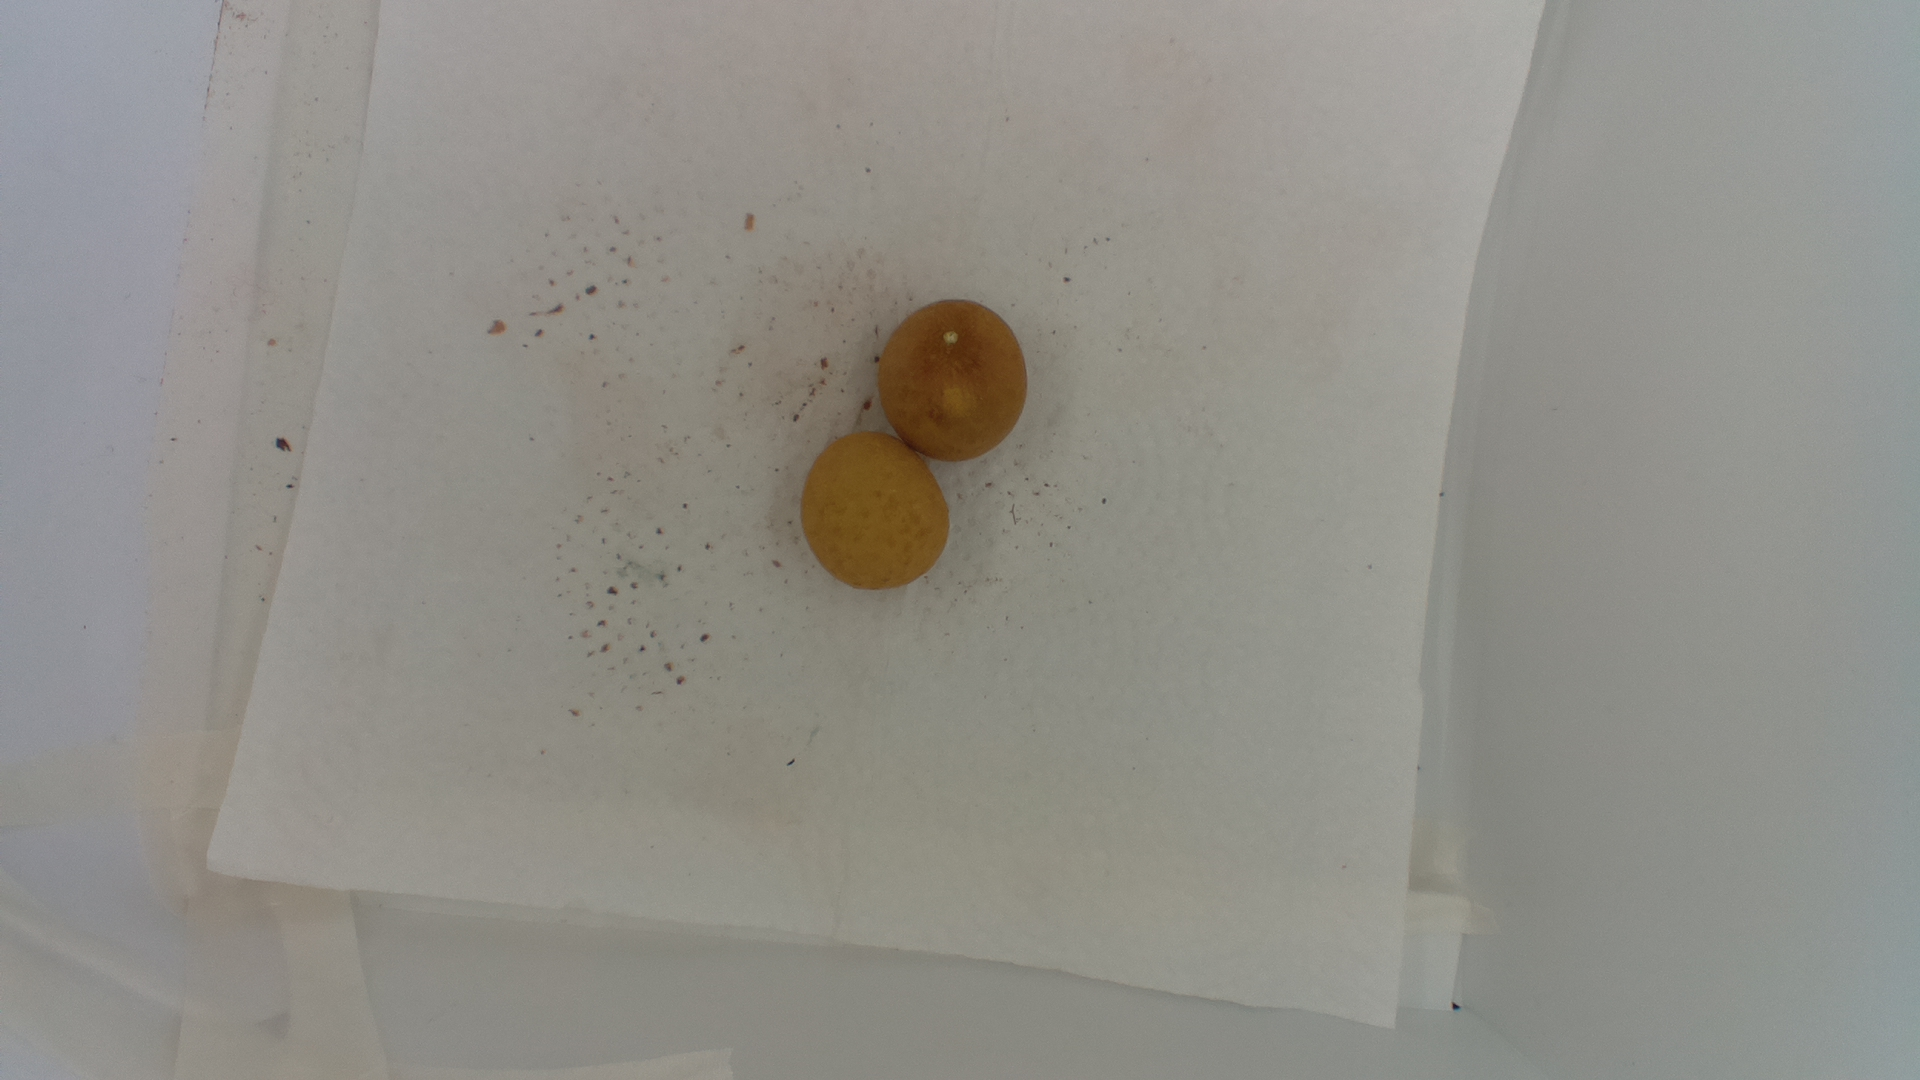fruit: (793, 293, 1038, 600)
